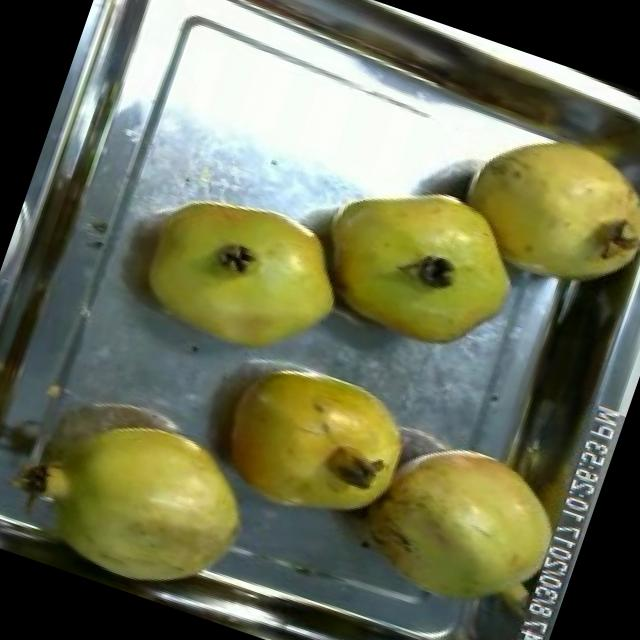fruit: (288, 145, 548, 381), (336, 412, 590, 638), (109, 164, 367, 386), (30, 392, 278, 618), (191, 336, 429, 548), (428, 95, 640, 324)
